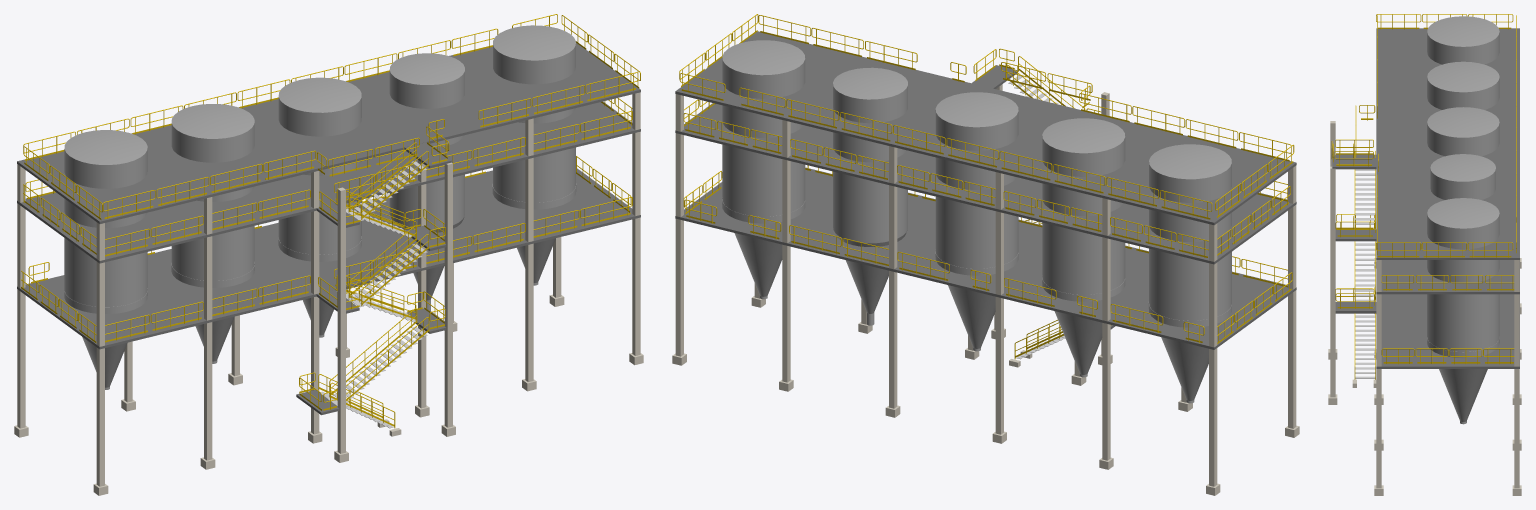
File: Plant.fbx
The picture shows the model from 3 angles, left to right: view 1: azimuth 30°, elevation 25°; view 2: azimuth 150°, elevation 25°; view 3: azimuth 270°, elevation 25°; orthographic projection. The views are drawn at different scales.
Parts seen in each view (by area): view 1: Base, Tank, Civil109, Rallings193, Staires; view 2: Tank, Base, Rallings193, Civil109; view 3: Base, Tank, Rallings193, Civil109, Staires.
Part boxes in pixels (bbox=[...]): Base: bbox=[17, 43, 640, 415]; Tank: bbox=[64, 25, 576, 389]; Civil109: bbox=[14, 92, 643, 495]; Rallings193: bbox=[21, 14, 640, 428]; Staires: bbox=[320, 161, 427, 428]; Tank: bbox=[722, 40, 1231, 403]; Base: bbox=[675, 31, 1296, 349]; Rallings193: bbox=[679, 14, 1294, 359]; Civil109: bbox=[672, 84, 1299, 495]; Base: bbox=[1332, 28, 1519, 368]; Tank: bbox=[1427, 16, 1499, 424]; Rallings193: bbox=[1331, 14, 1516, 379]; Civil109: bbox=[1328, 121, 1521, 495]; Staires: bbox=[1355, 169, 1375, 378].
Size of the model in its own units: 35.61 by 18.75 by 12.6.
